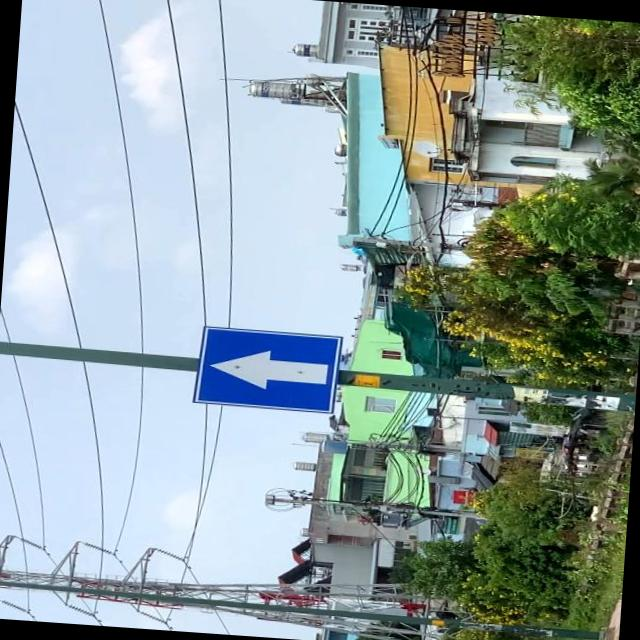I-407a: (194, 326, 342, 414)
